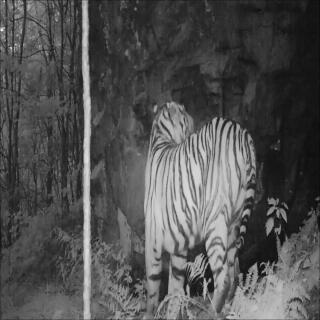Tiger: (142, 81, 262, 317)
